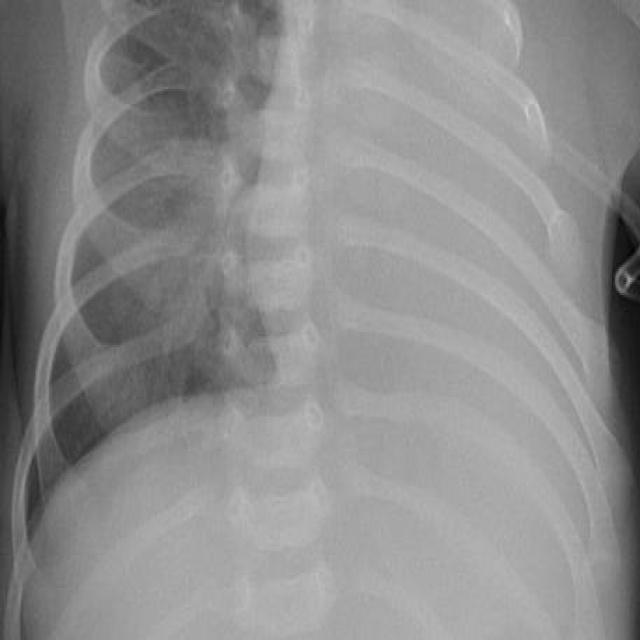high-pneumonia: (383, 1, 600, 444)
low-pneumonia: (103, 115, 223, 352)
